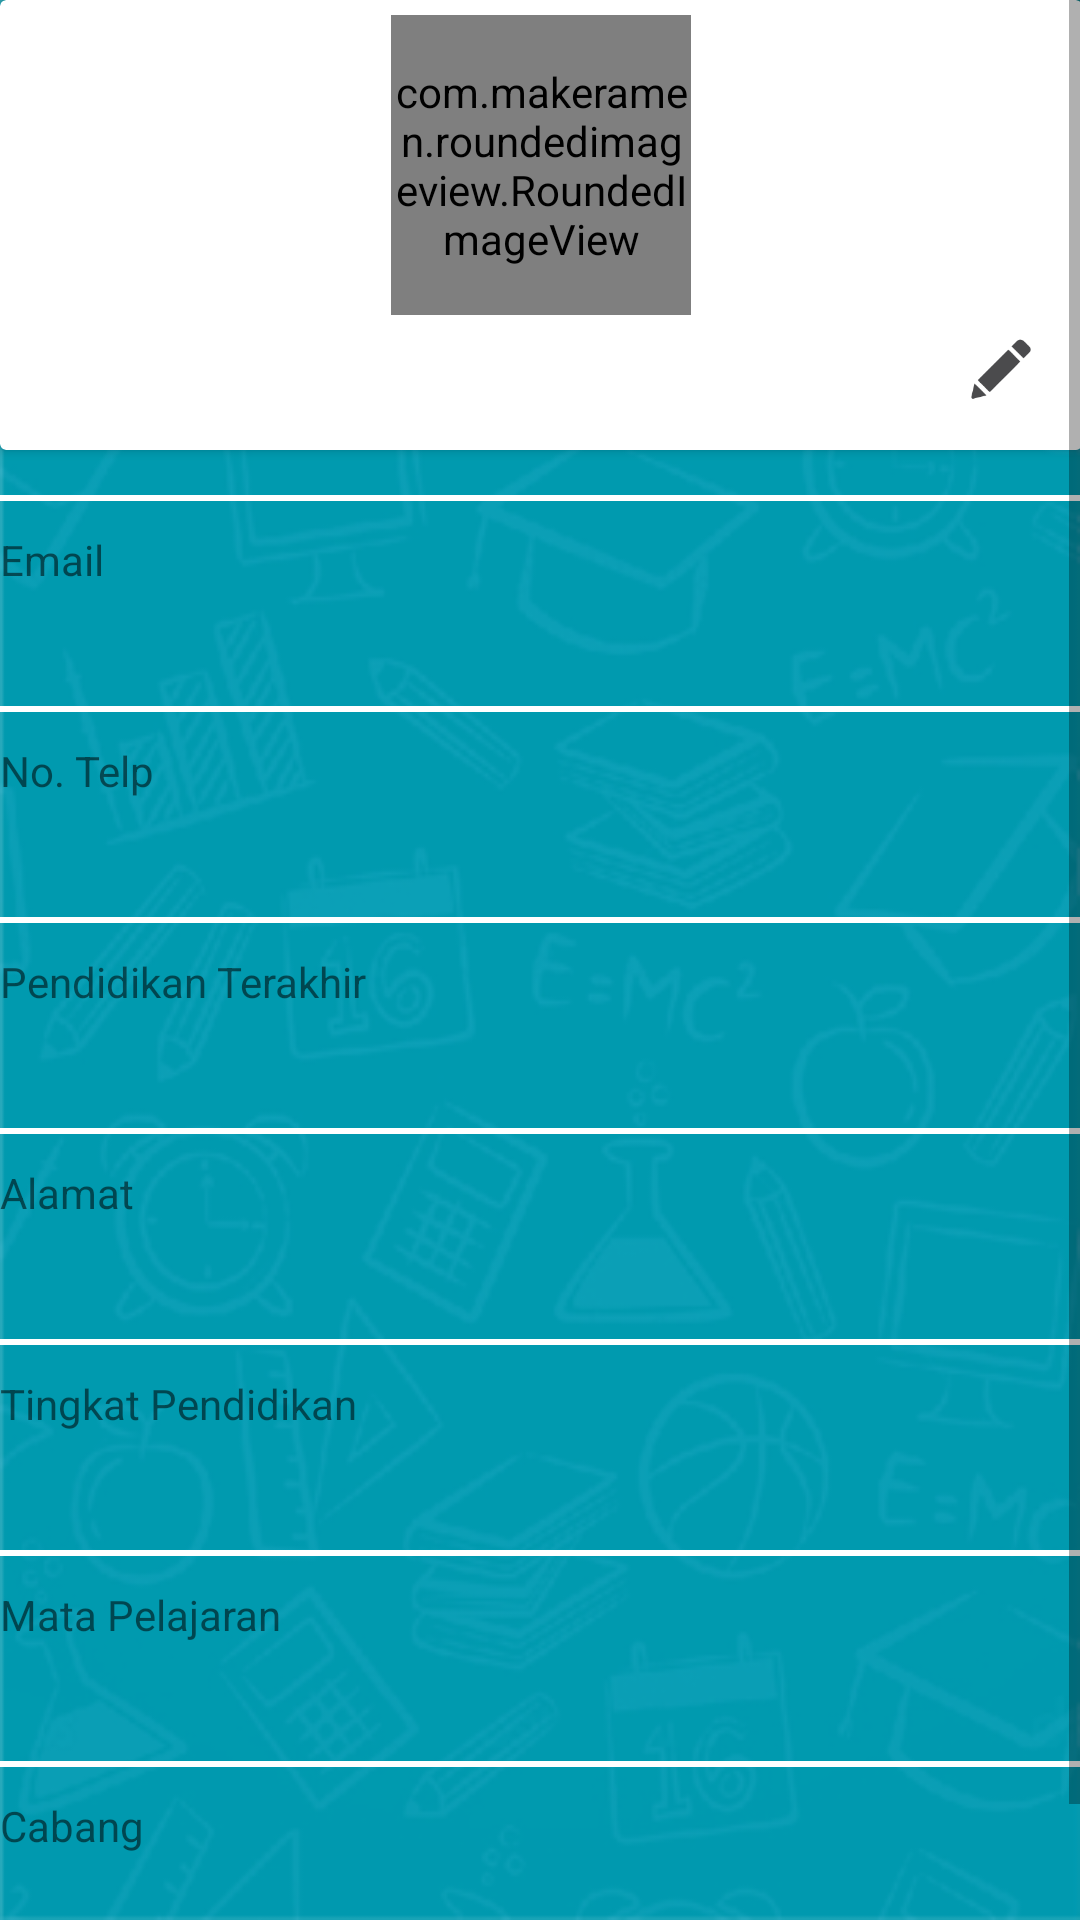

Where icons sit on this 1080x1920 app screen, as (x1, y1, x2, y2):
pen: (971, 339, 1031, 399)
